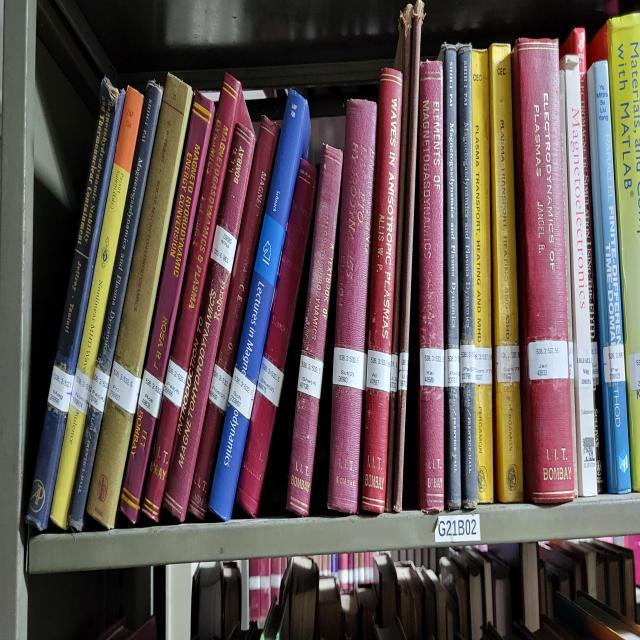Book: (88, 73, 192, 528), (26, 78, 125, 530), (144, 78, 242, 522), (210, 89, 310, 519), (69, 81, 162, 530), (50, 87, 144, 530), (120, 95, 215, 522), (162, 122, 255, 522), (189, 116, 279, 519), (511, 38, 575, 503), (236, 160, 318, 517), (286, 146, 342, 517), (328, 100, 376, 514), (361, 68, 402, 514), (561, 57, 598, 495), (489, 43, 524, 503), (394, 0, 424, 511), (385, 3, 412, 511), (418, 62, 445, 511), (458, 46, 482, 509), (471, 49, 494, 503), (440, 46, 461, 509)
Label: (108, 360, 141, 414), (332, 346, 368, 390), (528, 341, 569, 379), (256, 357, 284, 409), (229, 368, 256, 419), (48, 365, 74, 414), (210, 225, 236, 273), (139, 371, 164, 419), (298, 354, 324, 400), (164, 360, 188, 409), (366, 349, 391, 392), (209, 363, 231, 411), (89, 365, 110, 414), (70, 368, 92, 414), (602, 344, 625, 384), (420, 349, 444, 387), (496, 346, 520, 381), (475, 346, 492, 384), (444, 349, 460, 387), (460, 344, 475, 384), (578, 352, 592, 387), (399, 352, 409, 392), (390, 354, 399, 392)
